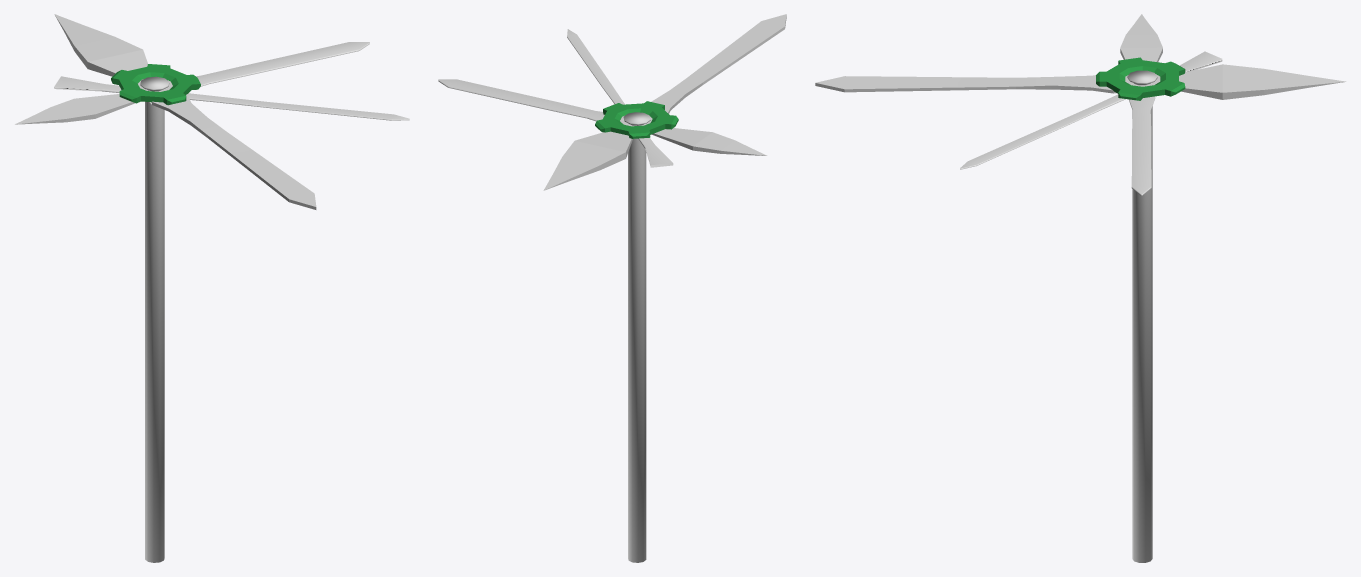
File: ClockHandsDone.fbx
The picture shows the model from 3 angles, left to right: view 1: azimuth 30°, elevation 25°; view 2: azimuth 150°, elevation 25°; view 3: azimuth 270°, elevation 25°; orthographic projection. The views are drawn at different scales.
Parts seen in each view (by area): view 1: Cylinder, timvisare.003, timvisare.001, timvisare.004, timvisare.002; view 2: Cylinder, timvisare.003, timvisare.001, timvisare.004, timvisare.002; view 3: Cylinder, timvisare.003, timvisare.001, timvisare.004, timvisare.002.
Boxes of the visible parts, left/top/right/bottom form: Cylinder: left=140, top=76, right=169, bottom=562; timvisare.003: left=54, top=14, right=316, bottom=209; timvisare.001: left=15, top=42, right=369, bottom=124; timvisare.004: left=111, top=64, right=200, bottom=105; timvisare.002: left=54, top=76, right=409, bottom=120; Cylinder: left=623, top=112, right=650, bottom=562; timvisare.003: left=543, top=14, right=786, bottom=190; timvisare.001: left=438, top=79, right=767, bottom=155; timvisare.004: left=595, top=101, right=678, bottom=138; timvisare.002: left=567, top=29, right=673, bottom=167; Cylinder: left=1127, top=70, right=1157, bottom=562; timvisare.003: left=815, top=64, right=1345, bottom=99; timvisare.001: left=1120, top=14, right=1162, bottom=195; timvisare.004: left=1096, top=57, right=1185, bottom=100; timvisare.002: left=960, top=51, right=1222, bottom=169.
Size of the model in its own units: 2234 by 2862 by 2851.
